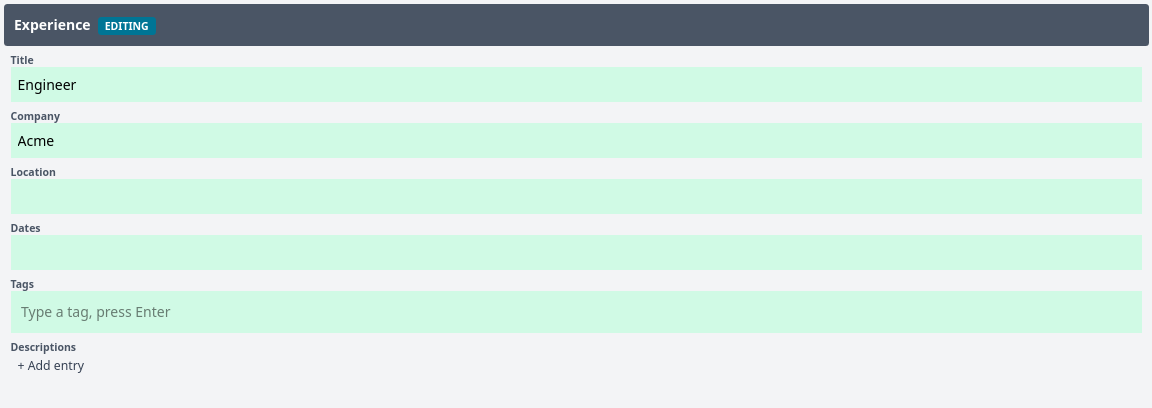
it: ExperienceEditor › shows an inline error under just the cleared required field
This screenshot has width=1152, height=408.
Clear the field named "company" at (576, 140), box x1=10 y1=122 x2=1142 y2=158
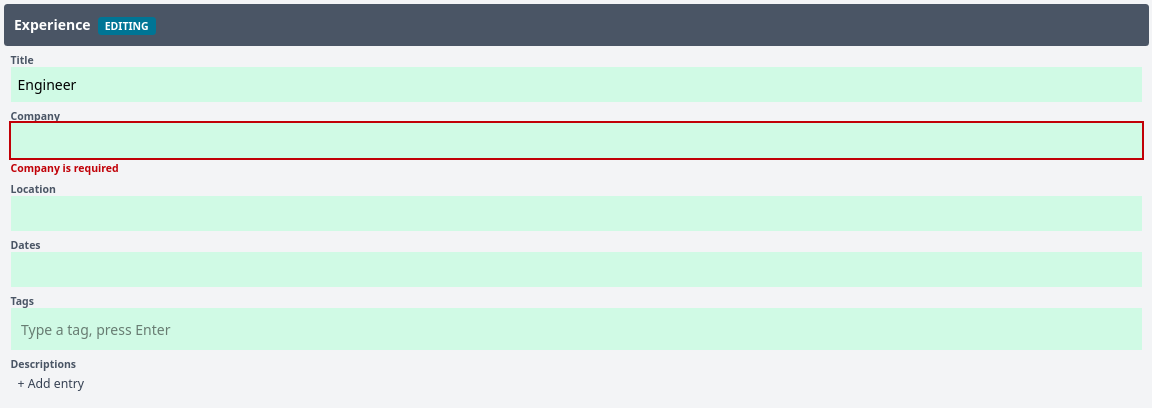
Check: the number of messages is 1, box x1=10 y1=161 x2=119 y2=175
Check: the message "Company is required" is shown, box x1=10 y1=161 x2=119 y2=175
